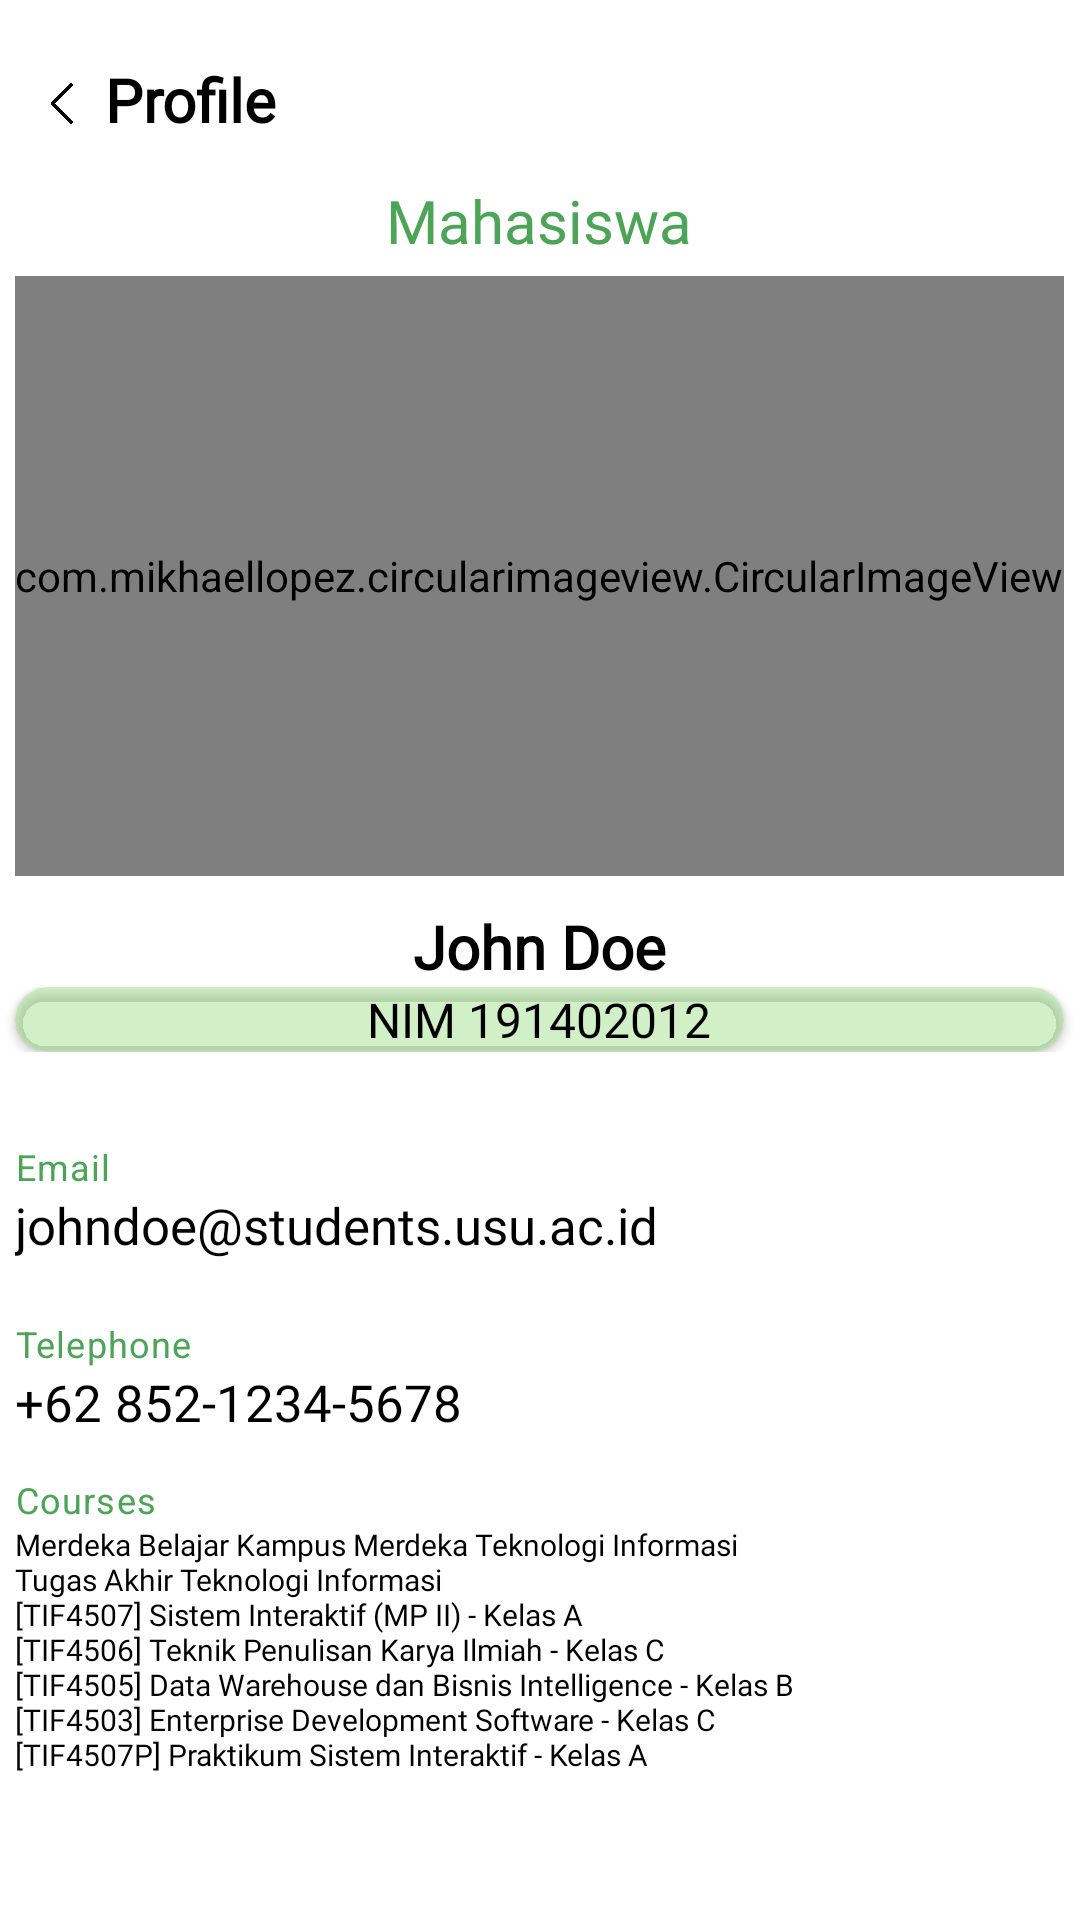

Screen size 1080px×1920px. Icon name, then its center in pixels as [x,y]:
back: [62,103]
